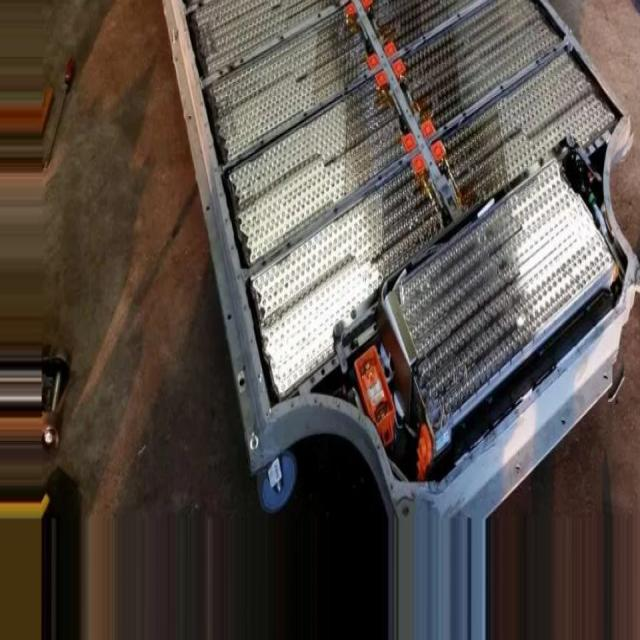Battery Module: (405, 171, 603, 412), (256, 167, 437, 384), (238, 87, 399, 257), (451, 57, 599, 204), (221, 21, 365, 156), (418, 2, 548, 120), (210, 14, 306, 64), (386, 6, 471, 46)
Nut: (247, 430, 261, 452)
